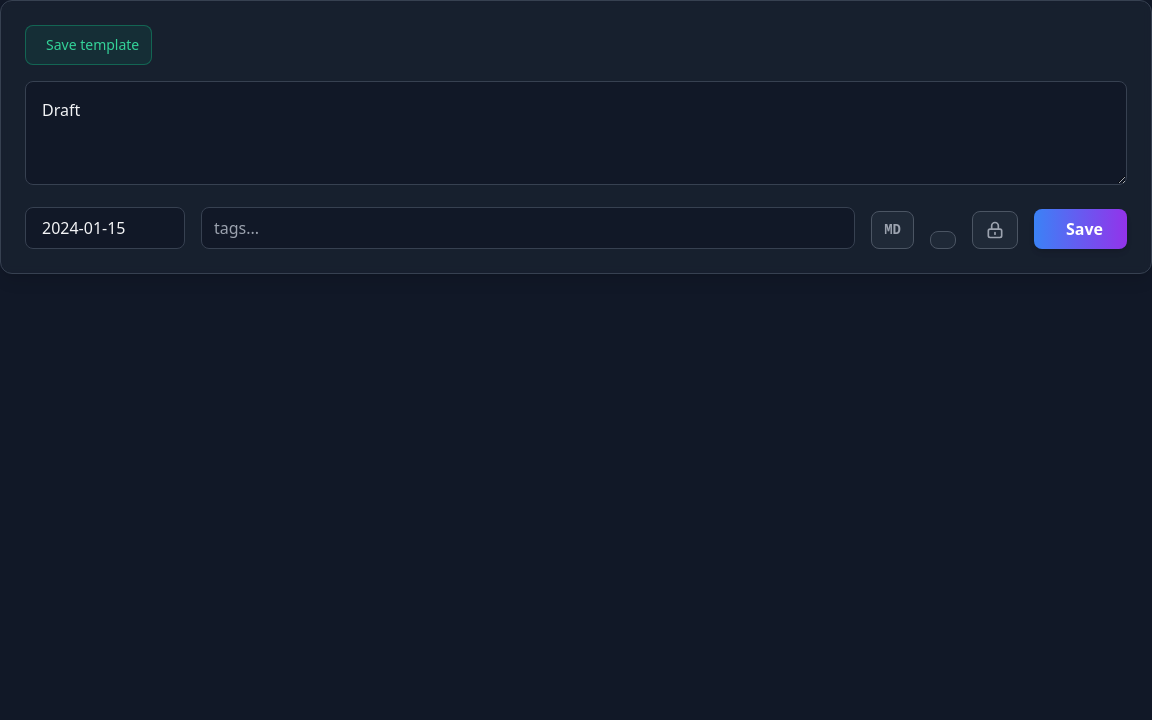
Scenario: EntryForm templates › keeps the name dialog open with a message when the template could not be saved
Click the button "Save template" at (89, 45), box 25,25 -> 152,65
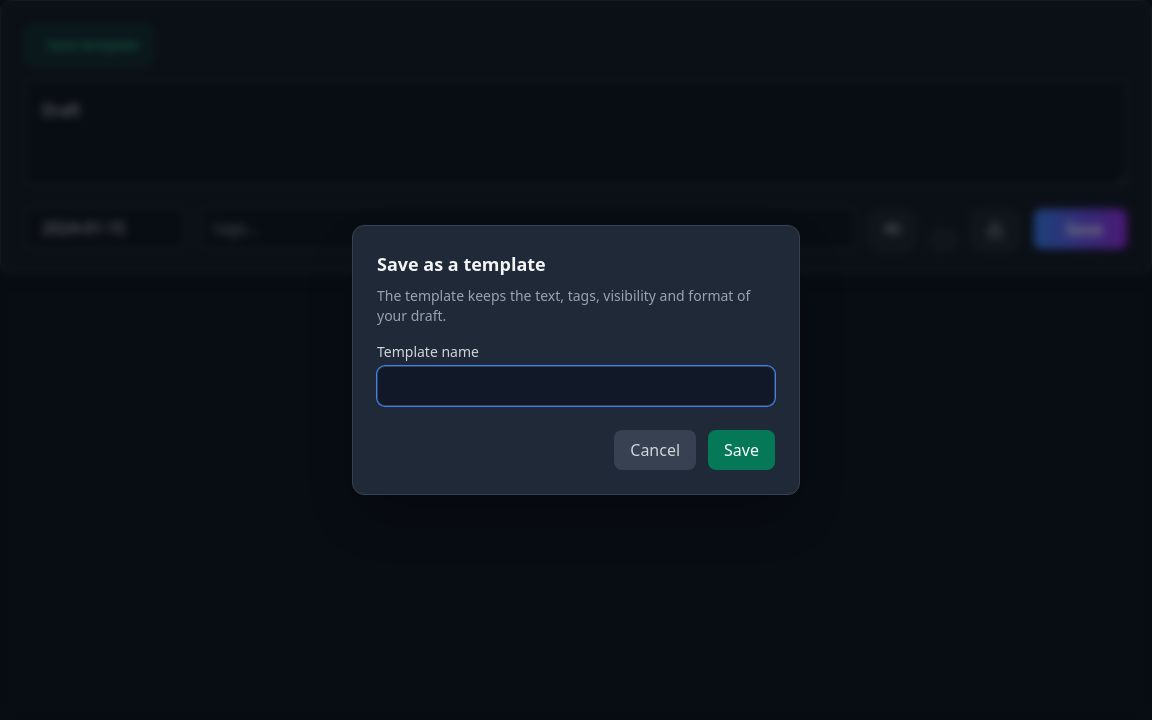
Type "Weekly" into the field labelled "Template name" at (576, 386), box 377,366 -> 775,406
Then press Enter
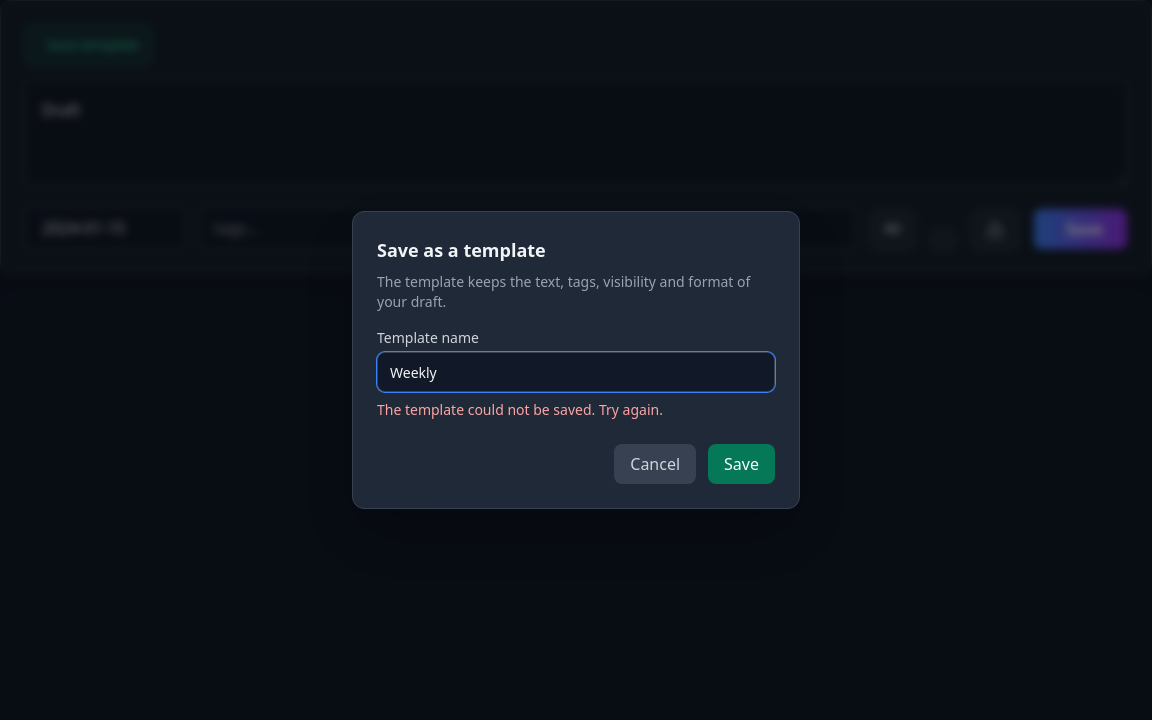
Now the dialog "Save as a template" is shown, box 352,211 -> 800,509
Now the message reads "The template could not be saved. Try again.", box 377,400 -> 663,419
